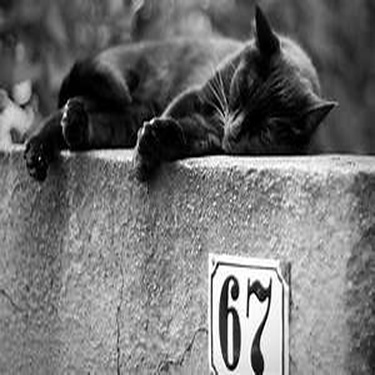cat: (24, 7, 337, 181)
